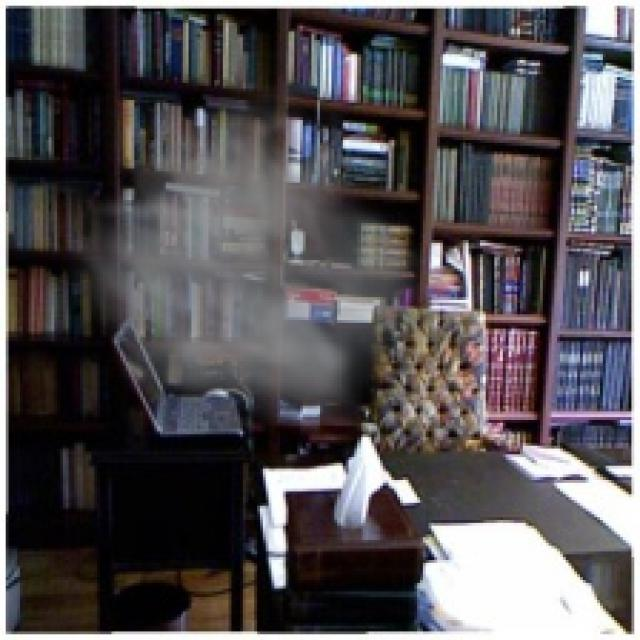smoke: (57, 68, 440, 426)
